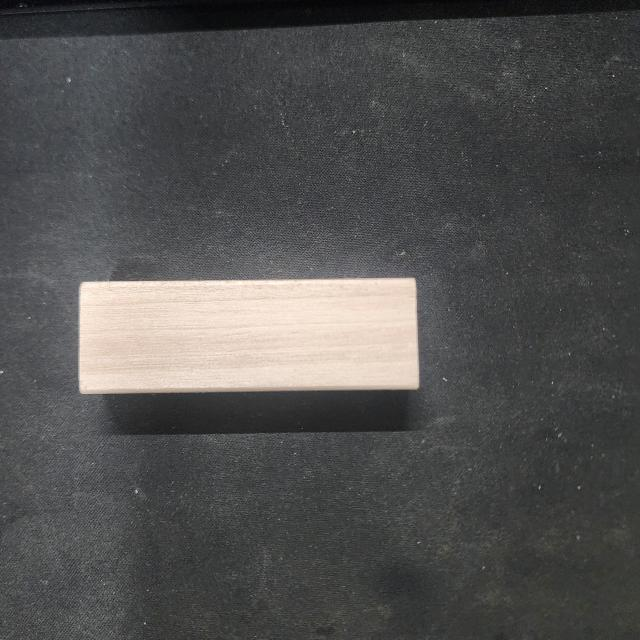wood: (79, 275, 420, 391)
